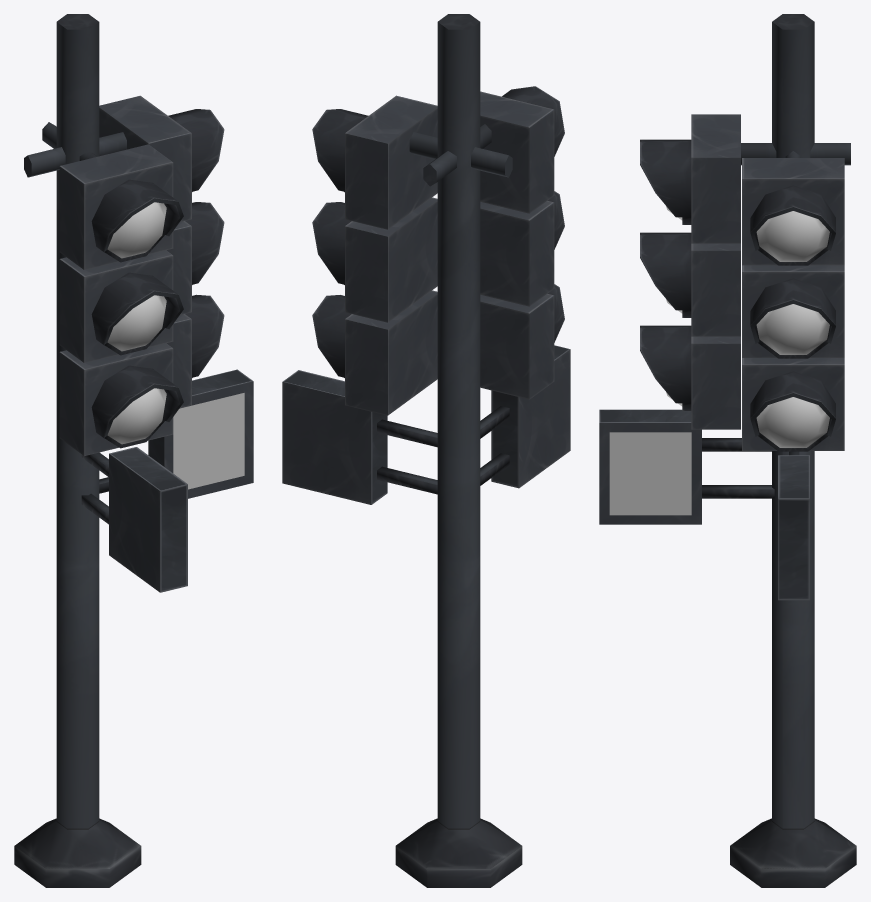
The model's file is jiedao_BJ_004.fbx.
The picture shows the model from 3 angles, left to right: view 1: azimuth 30°, elevation 25°; view 2: azimuth 150°, elevation 25°; view 3: azimuth 270°, elevation 25°; orthographic projection.
Parts seen in each view (by area): view 1: jiedao_BJ_004; view 2: jiedao_BJ_004; view 3: jiedao_BJ_004.
Boxes of the visible parts, bbox=[...] form: jiedao_BJ_004: bbox=[14, 14, 253, 887]; jiedao_BJ_004: bbox=[282, 14, 570, 887]; jiedao_BJ_004: bbox=[599, 14, 856, 887].
Size of the model in its own units: 67.54 by 69.06 by 250.
